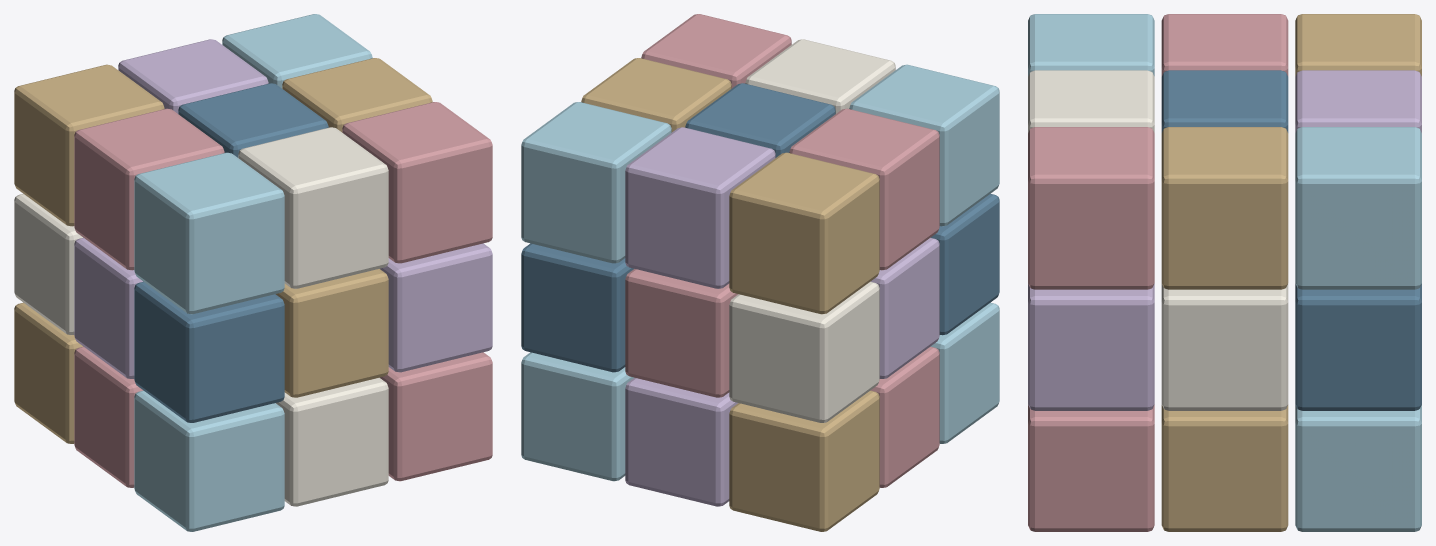
Rendered from dolly-magic-cube.glb.
3 views of the same model, side by side, from view 1: azimuth 30°, elevation 25°; view 2: azimuth 150°, elevation 25°; view 3: azimuth 270°, elevation 25° (orthographic). The views are drawn at different scales.
Parts seen in each view (by area): view 1: cubelet; view 2: cubelet; view 3: cubelet.
Part boxes in pixels (x1,y1,x2,y2): cubelet: [14, 14, 492, 531]; cubelet: [521, 14, 999, 531]; cubelet: [1028, 14, 1421, 531].
Bounding box in the file's own units: 0.56 × 0.56 × 0.56.
